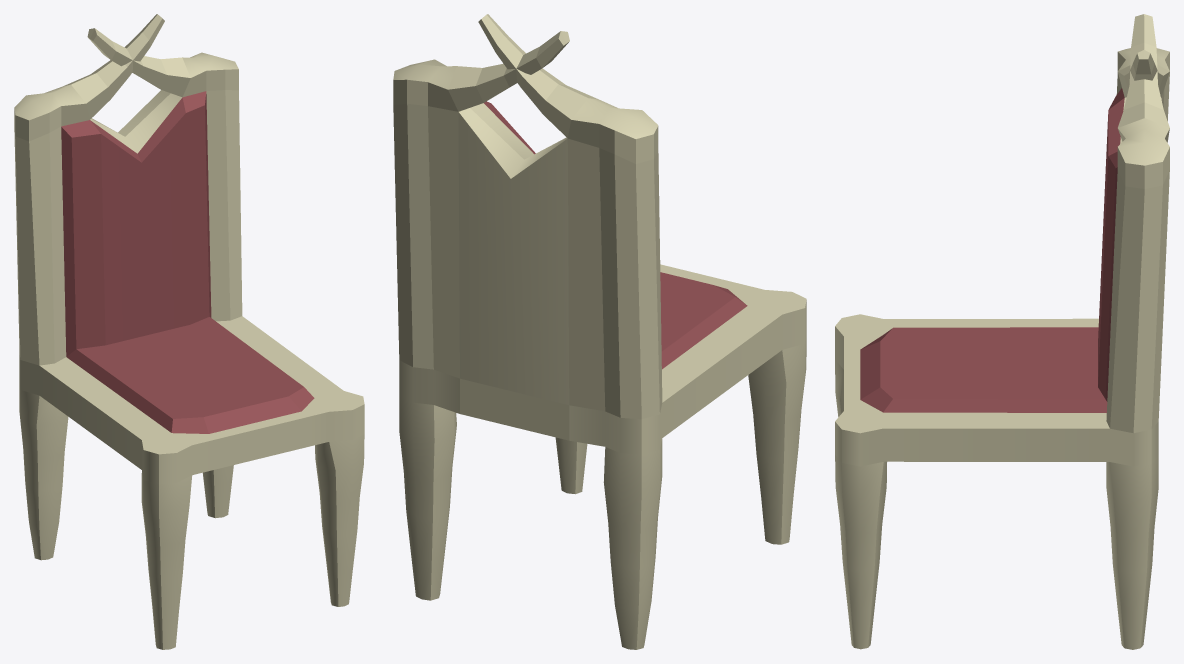
Rendered from SILLA.fbx.
3 renders of one model, left to right at view 1: azimuth 30°, elevation 25°; view 2: azimuth 150°, elevation 25°; view 3: azimuth 270°, elevation 25°, orthographic. The views are drawn at different scales.
Visible parts, largest first — view 1: Sillaxd:polySurface2; view 2: Sillaxd:polySurface2; view 3: Sillaxd:polySurface2.
Boxes of the visible parts, box(x1,y1,x2,y2) form: Sillaxd:polySurface2: box(14, 14, 364, 649); Sillaxd:polySurface2: box(393, 14, 806, 649); Sillaxd:polySurface2: box(835, 14, 1169, 649).
Bounding box in the file's own units: 0.7796 × 1.73 × 0.9267.
